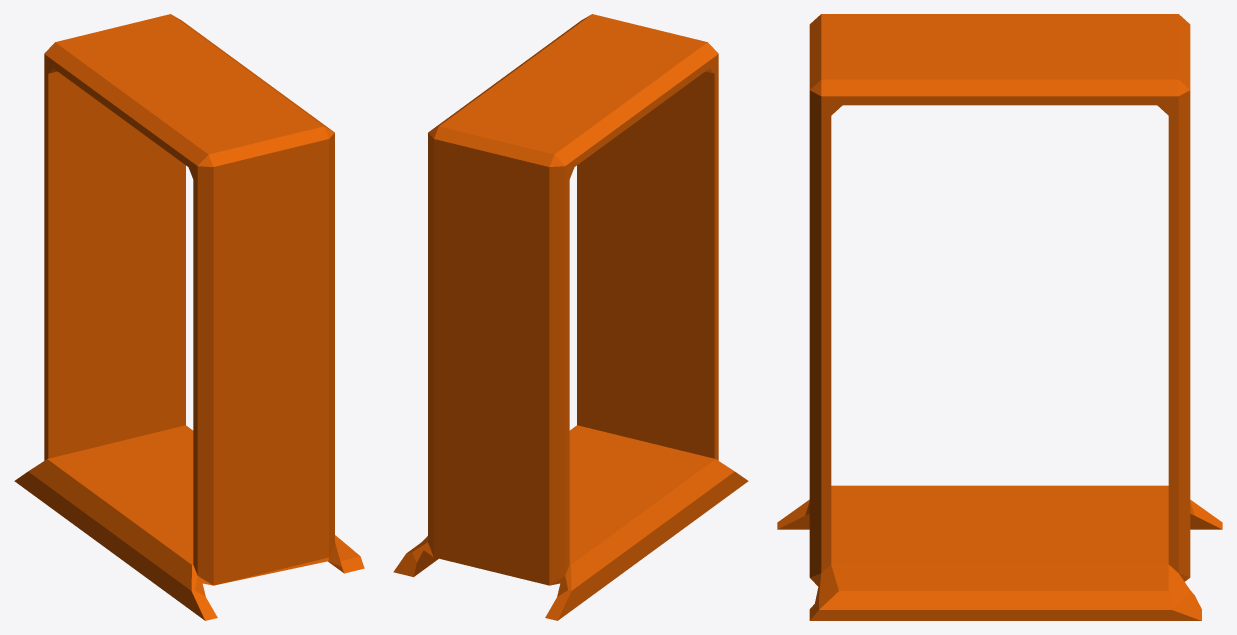
File: door.fbx
The picture shows the model from 3 angles, left to right: view 1: azimuth 30°, elevation 25°; view 2: azimuth 150°, elevation 25°; view 3: azimuth 270°, elevation 25°; orthographic projection. The views are drawn at different scales.
Visible parts, largest first — view 1: door; view 2: door; view 3: door.
Boxes of the visible parts, x1,y1,x2,y2 form: door: [14, 14, 364, 620]; door: [393, 14, 748, 620]; door: [777, 14, 1222, 620].
Bounding box in the file's own units: 134 × 330 × 256.
